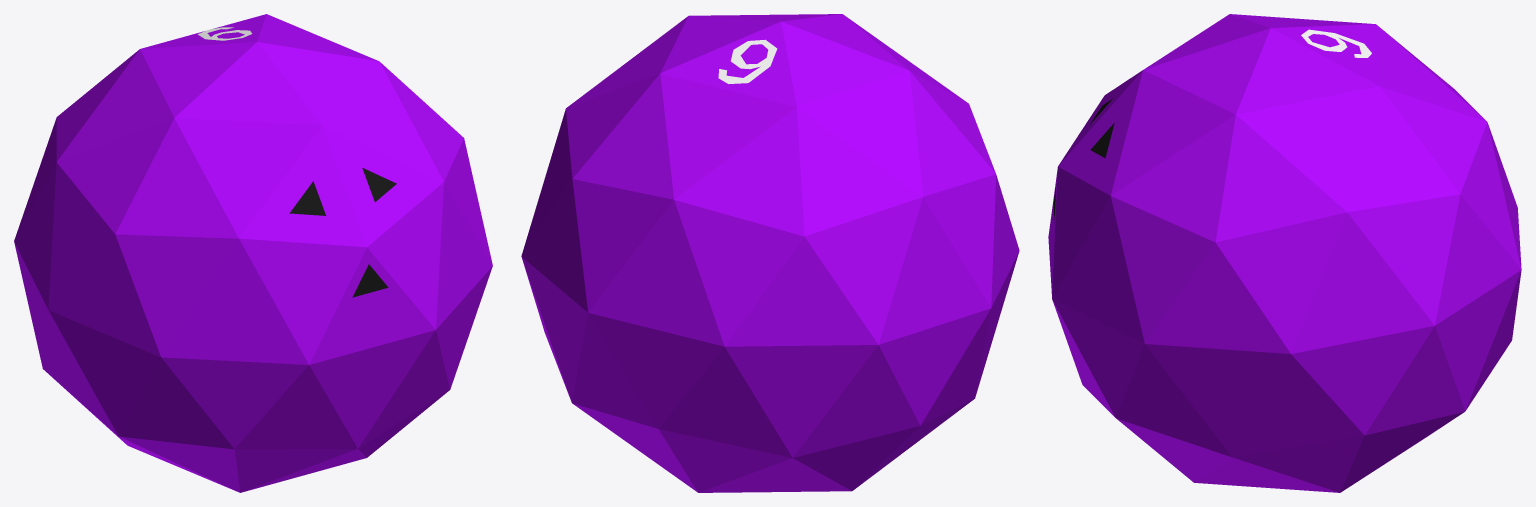
File: Bowling_Ball_6.fbx
3 views of the same model, side by side, from view 1: azimuth 30°, elevation 25°; view 2: azimuth 150°, elevation 25°; view 3: azimuth 270°, elevation 25° (orthographic). The views are drawn at different scales.
Parts seen in each view (by area): view 1: Bowling_Ball_6; view 2: Bowling_Ball_6; view 3: Bowling_Ball_6.
Part boxes in pixels (<box>): Bowling_Ball_6: <box>14,14,492,492</box>; Bowling_Ball_6: <box>521,14,1019,492</box>; Bowling_Ball_6: <box>1048,14,1521,492</box>.
Bounding box in the file's own units: 28.65 × 28.61 × 27.42.
